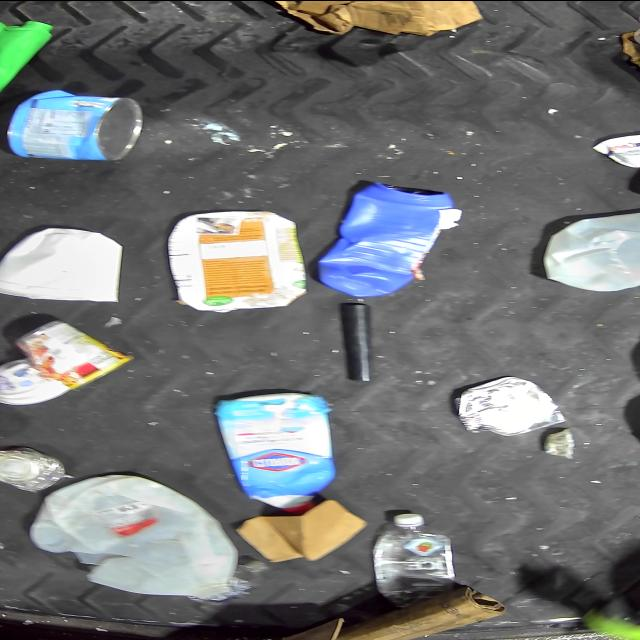can: (3, 88, 148, 160), (456, 376, 565, 436), (0, 443, 71, 491)
milk_jug: (32, 470, 245, 597), (544, 206, 640, 290)
non_white_jug: (317, 180, 454, 296), (216, 388, 334, 511), (168, 209, 307, 310), (0, 13, 55, 123)
plastic_bottle: (368, 509, 456, 604)
